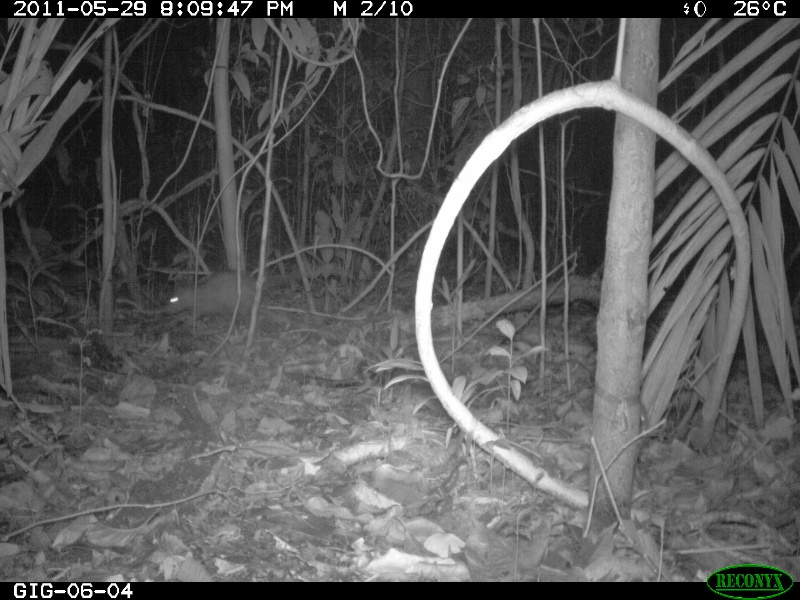opossum: (160, 259, 350, 325)
